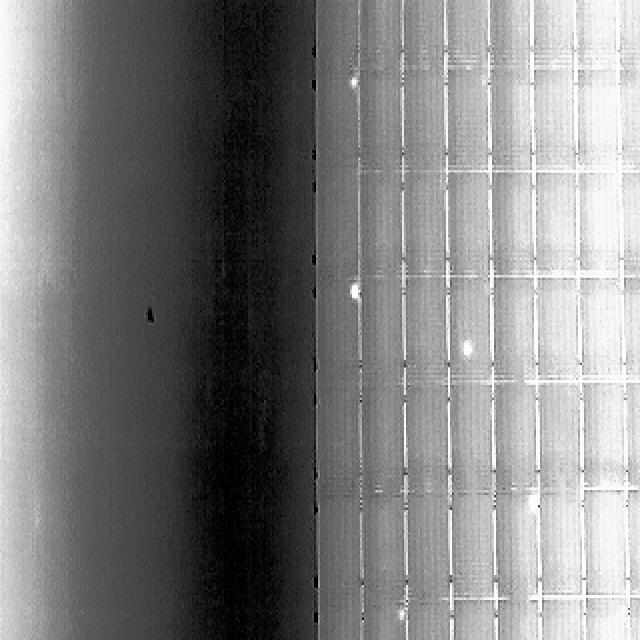Hotspots: (455, 338, 489, 374), (447, 339, 476, 375), (525, 492, 542, 513), (348, 280, 363, 301), (394, 608, 409, 626), (346, 72, 360, 91)
PV-modules: (535, 489, 584, 597), (360, 494, 407, 606), (445, 382, 491, 494), (354, 274, 402, 381), (492, 381, 538, 492), (316, 382, 362, 493), (402, 71, 450, 176), (447, 494, 493, 603), (536, 382, 582, 491), (492, 493, 538, 602), (407, 273, 453, 381), (408, 494, 453, 604), (403, 168, 450, 273), (318, 494, 362, 606), (316, 170, 360, 282), (358, 382, 402, 493), (404, 381, 448, 492), (442, 168, 488, 274), (579, 382, 624, 490), (581, 491, 626, 598), (490, 172, 536, 276), (490, 275, 535, 380), (443, 69, 488, 174), (358, 171, 403, 276), (355, 73, 401, 175), (449, 274, 494, 378), (578, 273, 622, 379), (316, 283, 362, 384), (537, 275, 582, 378), (574, 169, 618, 274), (536, 172, 580, 276), (534, 65, 578, 169), (487, 68, 530, 174), (573, 66, 617, 168), (316, 79, 360, 176), (316, 2, 359, 79), (355, 0, 400, 69), (572, 0, 618, 67), (442, 0, 489, 65), (487, 0, 533, 64), (533, 0, 577, 66), (401, 0, 445, 66), (618, 170, 640, 275), (618, 68, 640, 172), (620, 278, 640, 382), (622, 380, 640, 490), (538, 597, 584, 640), (406, 597, 452, 640), (580, 600, 628, 640), (454, 597, 498, 640), (494, 597, 538, 640), (360, 600, 406, 640), (318, 600, 364, 640), (616, 0, 640, 65), (630, 492, 640, 600), (634, 600, 640, 640)
